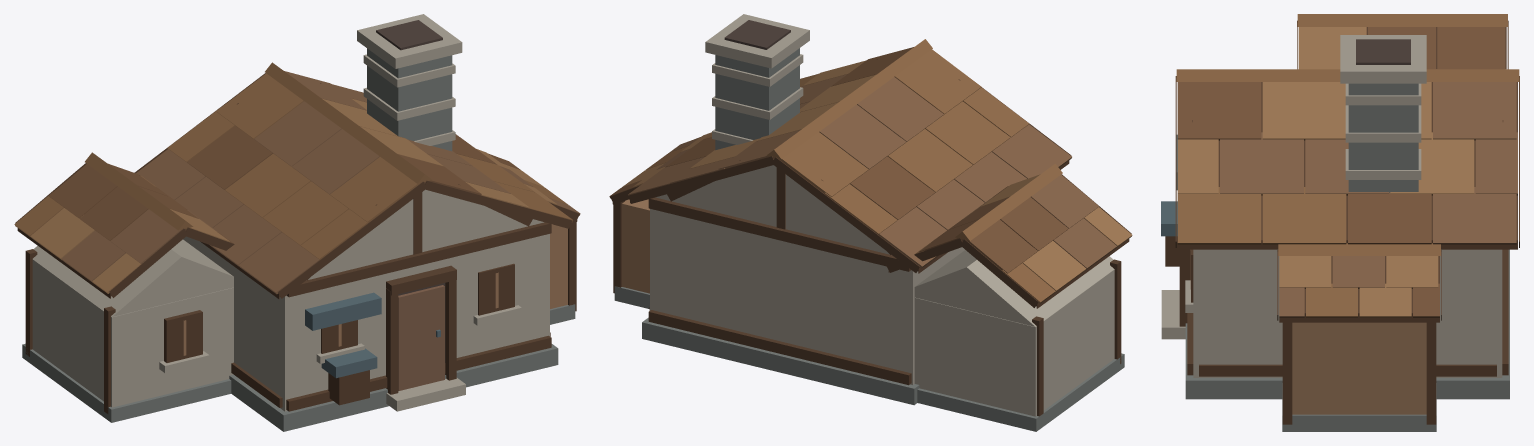
The model's file is ENV_Civic_forge_LOD1.glb.
3 views of the same model, side by side, from view 1: azimuth 30°, elevation 25°; view 2: azimuth 150°, elevation 25°; view 3: azimuth 270°, elevation 25° (orthographic). The views are drawn at different scales.
Visible parts, largest first — view 1: ENV_Civic_forge_LOD1_roof_roofTiles, ENV_Civic_forge_LOD1_shell_stone, ENV_Civic_forge_LOD1_stage6_wing_stone, ENV_Civic_forge_LOD1_stage6_wing_roofTiles, ENV_Civic_forge_LOD1_shell_woodDark, ENV_Civic_forge_LOD1_stage6_wing_woodDark, ENV_Civic_forge_LOD1_foundation_stoneDark, ENV_Civic_forge_LOD1_forge_identity_stoneDark, ENV_Civic_forge_LOD1_forge_identity_stone, ENV_Civic_forge_LOD1_shell_wood, ENV_Civic_forge_LOD1_roof_woodDark, ENV_Civic_forge_LOD1_stage6_wing_stoneDark (+6 smaller); view 2: ENV_Civic_forge_LOD1_roof_roofTiles, ENV_Civic_forge_LOD1_shell_stone, ENV_Civic_forge_LOD1_stage6_wing_stone, ENV_Civic_forge_LOD1_stage6_wing_roofTiles, ENV_Civic_forge_LOD1_shell_woodDark, ENV_Civic_forge_LOD1_foundation_stoneDark, ENV_Civic_forge_LOD1_forge_identity_stoneDark, ENV_Civic_forge_LOD1_forge_identity_stone, ENV_Civic_forge_LOD1_stage6_wing_woodDark, ENV_Civic_forge_LOD1_stage6_wing_stoneDark, ENV_Civic_forge_LOD1_roof_woodDark, ENV_Civic_forge_LOD1_stage5_shed_woodLight (+4 smaller); view 3: ENV_Civic_forge_LOD1_roof_roofTiles, ENV_Civic_forge_LOD1_shell_stone, ENV_Civic_forge_LOD1_stage5_shed_woodLight, ENV_Civic_forge_LOD1_stage5_shed_roofTiles, ENV_Civic_forge_LOD1_stage6_wing_roofTiles, ENV_Civic_forge_LOD1_forge_identity_stone, ENV_Civic_forge_LOD1_forge_identity_stoneDark, ENV_Civic_forge_LOD1_foundation_stoneDark, ENV_Civic_forge_LOD1_shell_woodDark, ENV_Civic_forge_LOD1_stage5_shed_woodDark, ENV_Civic_forge_LOD1_stage5_shed_stoneDark, ENV_Civic_forge_LOD1_roof_woodDark (+3 smaller).
Part boxes in pixels (bbox=[...]): ENV_Civic_forge_LOD1_roof_roofTiles: bbox=[136, 62, 572, 294]; ENV_Civic_forge_LOD1_shell_stone: bbox=[183, 189, 549, 411]; ENV_Civic_forge_LOD1_stage6_wing_stone: bbox=[32, 239, 233, 407]; ENV_Civic_forge_LOD1_stage6_wing_roofTiles: bbox=[14, 152, 233, 293]; ENV_Civic_forge_LOD1_shell_woodDark: bbox=[231, 83, 551, 411]; ENV_Civic_forge_LOD1_stage6_wing_woodDark: bbox=[15, 163, 234, 413]; ENV_Civic_forge_LOD1_foundation_stoneDark: bbox=[229, 344, 558, 431]; ENV_Civic_forge_LOD1_forge_identity_stoneDark: bbox=[367, 48, 452, 151]; ENV_Civic_forge_LOD1_forge_identity_stone: bbox=[357, 14, 462, 145]; ENV_Civic_forge_LOD1_shell_wood: bbox=[398, 285, 444, 390]; ENV_Civic_forge_LOD1_roof_woodDark: bbox=[134, 73, 572, 299]; ENV_Civic_forge_LOD1_stage6_wing_stoneDark: bbox=[22, 343, 231, 422]; ENV_Civic_forge_LOD1_roof_roofTiles: bbox=[628, 39, 1071, 268]; ENV_Civic_forge_LOD1_shell_stone: bbox=[650, 165, 964, 384]; ENV_Civic_forge_LOD1_stage6_wing_stone: bbox=[914, 250, 1114, 416]; ENV_Civic_forge_LOD1_stage6_wing_roofTiles: bbox=[886, 163, 1132, 303]; ENV_Civic_forge_LOD1_shell_woodDark: bbox=[648, 59, 960, 385]; ENV_Civic_forge_LOD1_foundation_stoneDark: bbox=[642, 317, 919, 405]; ENV_Civic_forge_LOD1_forge_identity_stoneDark: bbox=[715, 48, 799, 150]; ENV_Civic_forge_LOD1_forge_identity_stone: bbox=[705, 14, 809, 144]; ENV_Civic_forge_LOD1_stage6_wing_woodDark: bbox=[886, 174, 1131, 416]; ENV_Civic_forge_LOD1_stage6_wing_stoneDark: bbox=[917, 353, 1124, 431]; ENV_Civic_forge_LOD1_roof_woodDark: bbox=[628, 73, 1071, 273]; ENV_Civic_forge_LOD1_stage5_shed_woodLight: bbox=[622, 199, 649, 293]; ENV_Civic_forge_LOD1_roof_roofTiles: bbox=[1176, 69, 1519, 244]; ENV_Civic_forge_LOD1_shell_stone: bbox=[1161, 249, 1502, 377]; ENV_Civic_forge_LOD1_stage5_shed_woodLight: bbox=[1292, 322, 1426, 414]; ENV_Civic_forge_LOD1_stage5_shed_roofTiles: bbox=[1278, 243, 1440, 317]; ENV_Civic_forge_LOD1_stage6_wing_roofTiles: bbox=[1297, 14, 1507, 69]; ENV_Civic_forge_LOD1_forge_identity_stone: bbox=[1340, 35, 1426, 179]; ENV_Civic_forge_LOD1_forge_identity_stoneDark: bbox=[1348, 83, 1418, 192]; ENV_Civic_forge_LOD1_foundation_stoneDark: bbox=[1185, 249, 1509, 399]; ENV_Civic_forge_LOD1_shell_woodDark: bbox=[1179, 120, 1508, 376]; ENV_Civic_forge_LOD1_stage5_shed_woodDark: bbox=[1277, 250, 1441, 424]; ENV_Civic_forge_LOD1_stage5_shed_stoneDark: bbox=[1282, 383, 1436, 431]; ENV_Civic_forge_LOD1_roof_woodDark: bbox=[1175, 76, 1519, 249].
Bounding box in the file's own units: 8.76 × 5.07 × 5.23.
